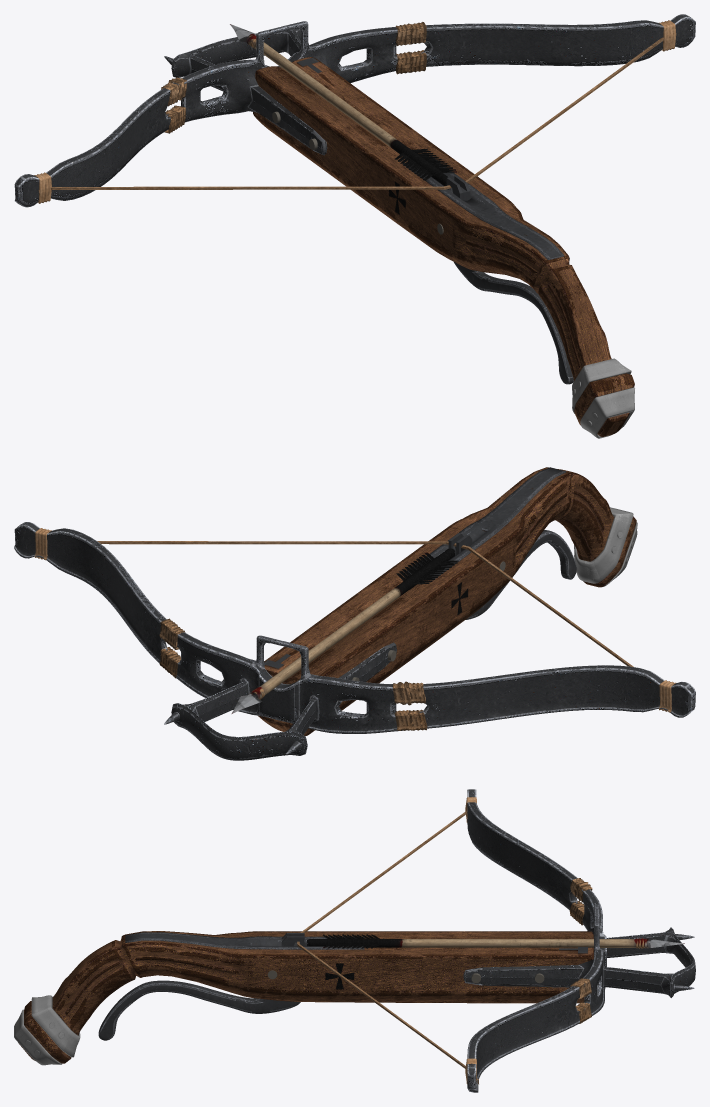
3 views of the same model, one above another, from view 1: azimuth 30°, elevation 25°; view 2: azimuth 150°, elevation 25°; view 3: azimuth 270°, elevation 25° (orthographic). The views are drawn at different scales.
Bounding box in the file's own units: 693 × 169 × 702.
9 materials, 9 textured.
